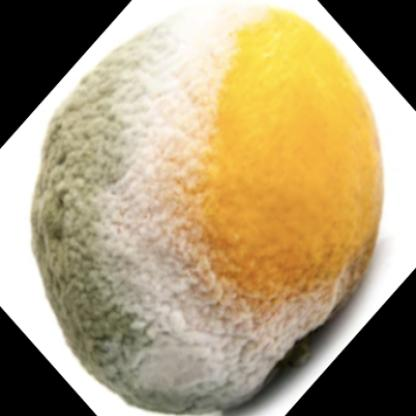rotten: (37, 6, 386, 415)
